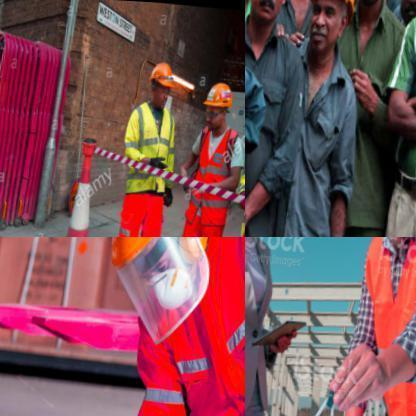vest: (116, 237, 244, 415), (344, 237, 415, 415), (121, 93, 185, 194), (193, 117, 242, 199)
